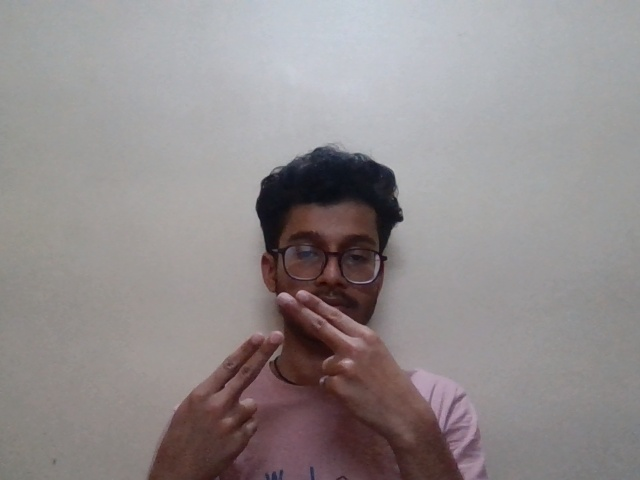my-name-is: (170, 291, 432, 463)
